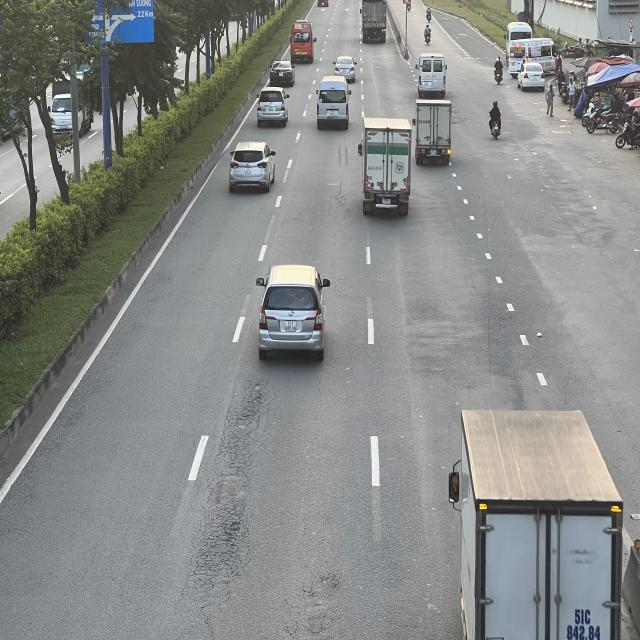car: (256, 264, 330, 354), (227, 143, 276, 188), (255, 88, 289, 125), (518, 63, 545, 91), (333, 55, 357, 82)
coach: (290, 20, 316, 66)
truck: (450, 408, 624, 640), (358, 115, 412, 220), (414, 100, 452, 167), (360, 0, 388, 44)
van: (316, 74, 351, 130), (416, 52, 448, 95)
